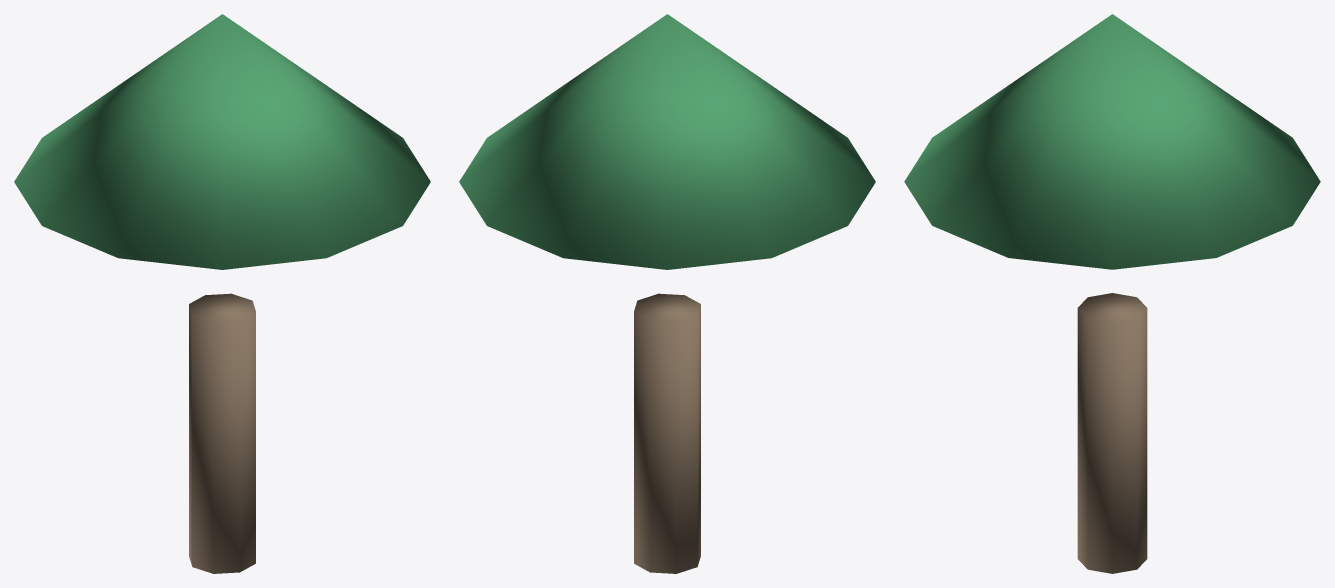
File: tree_pine_v1.glb
3 renders of one model, left to right at view 1: azimuth 30°, elevation 25°; view 2: azimuth 150°, elevation 25°; view 3: azimuth 270°, elevation 25°, orthographic.
Parts seen in each view (by area): view 1: canopy, trunk; view 2: canopy, trunk; view 3: canopy, trunk.
Part boxes in pixels (x1,y1,x2,y2): canopy: (14, 14, 430, 269); trunk: (189, 293, 255, 573); canopy: (459, 14, 875, 269); trunk: (634, 293, 700, 573); canopy: (904, 14, 1320, 269); trunk: (1077, 293, 1147, 573).
Bounding box in the file's own units: 3.6 × 5.2 × 3.6.
